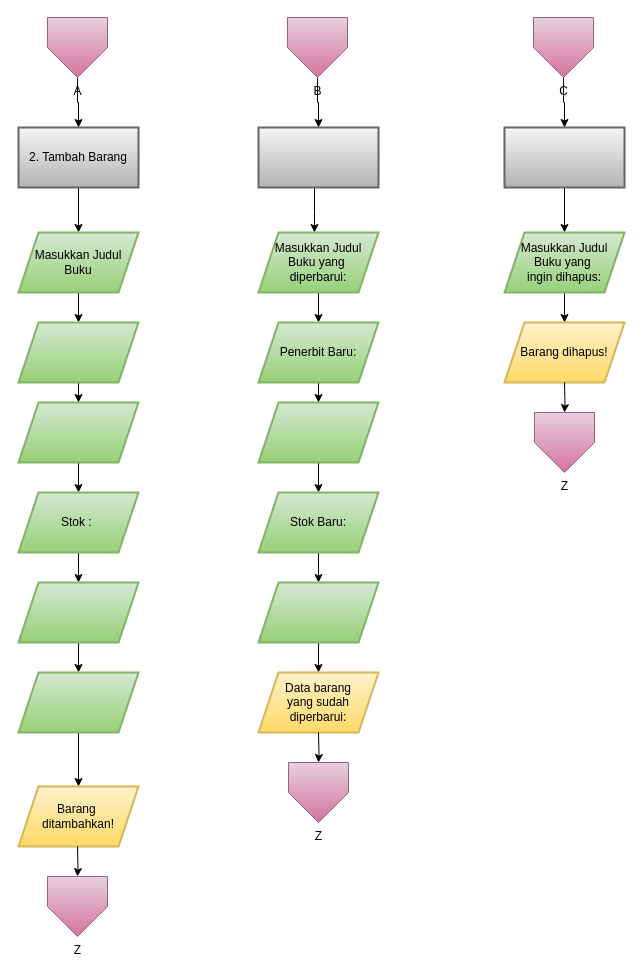
The diagram is 642 pixels wide and 975 high, and some of its shapes have lost their labels. The shapes that lost their labels are listed below. From the top down, each one's box as (x1, y1, x2, y2) in pixels, then its label:
(257, 126, 379, 188): 3. Edit Barang
(503, 126, 625, 188): 4. Hapus Barang
(17, 321, 139, 383): Penerbit :
(17, 401, 139, 463): Tahun terbit :
(257, 401, 379, 463): Tahun Terbit Baru:
(17, 581, 139, 643): Harga :
(257, 581, 379, 643): Harga:
(17, 671, 139, 733): Kategori :
